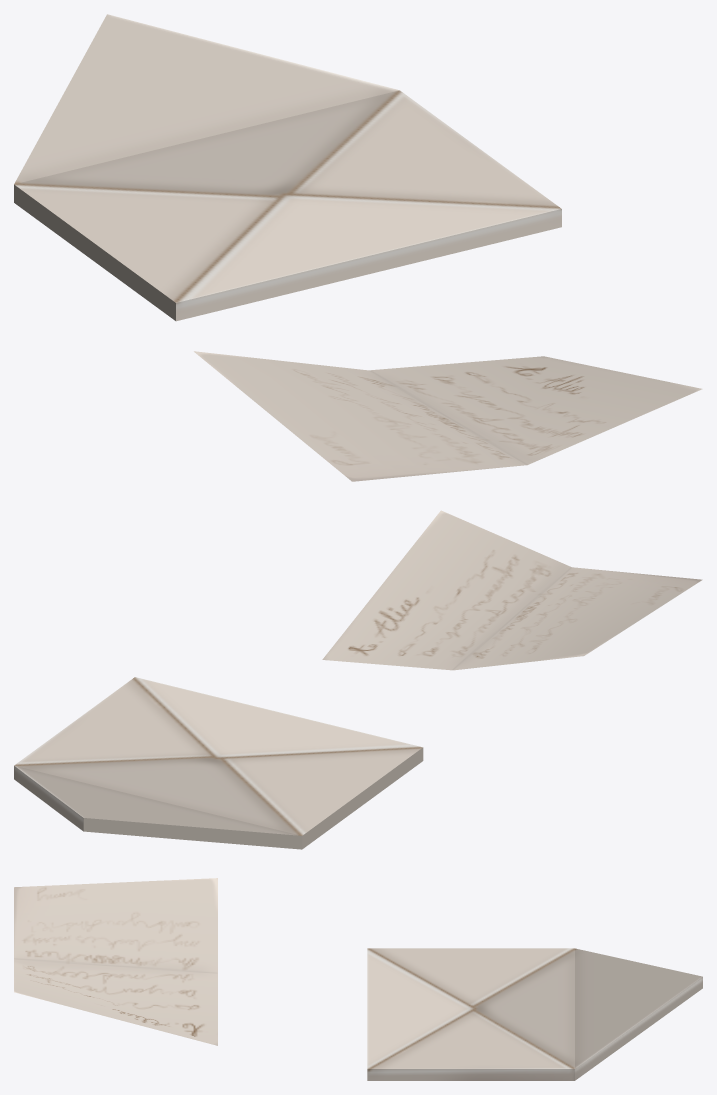
Rendered from Letter.fbx.
3 renders of one model, top to bottom at view 1: azimuth 30°, elevation 25°; view 2: azimuth 150°, elevation 25°; view 3: azimuth 270°, elevation 25°, orthographic. The views are drawn at different scales.
Visible parts, largest first — view 1: Box036, Plane074; view 2: Box036, Plane074; view 3: Box036, Plane074.
Boxes of the visible parts, bbox=[...] form: Box036: bbox=[14, 14, 561, 321]; Plane074: bbox=[194, 351, 702, 481]; Box036: bbox=[14, 677, 423, 849]; Plane074: bbox=[322, 510, 702, 670]; Box036: bbox=[367, 948, 702, 1080]; Plane074: bbox=[14, 878, 217, 1045].
Bounding box in the file's own units: 27.66 × 4.94 × 53.06.
Materials: 1 (1 with a texture image).
